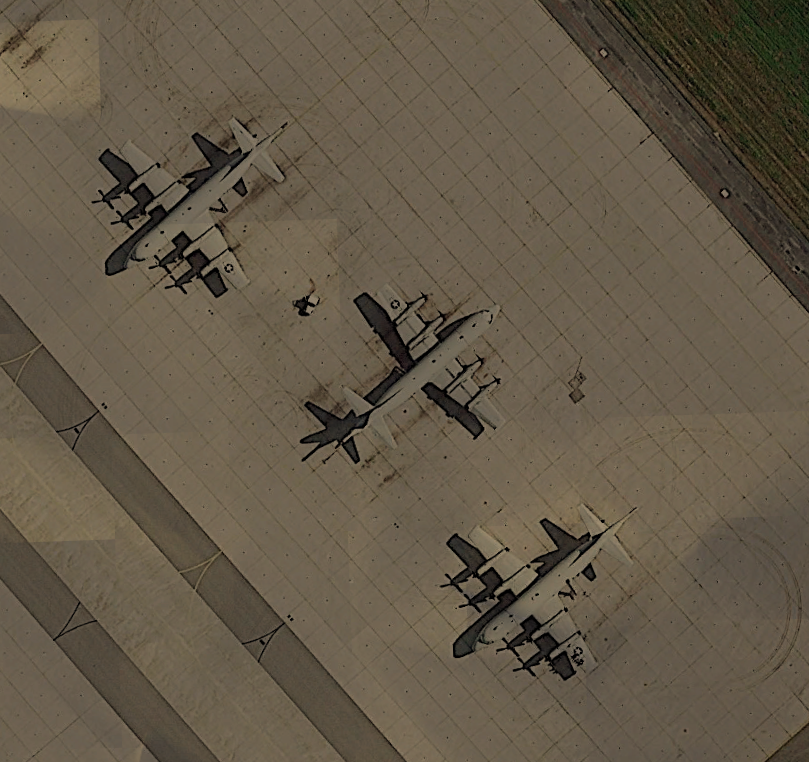A9: (96, 112, 308, 303), (446, 492, 648, 680), (326, 285, 508, 456)
